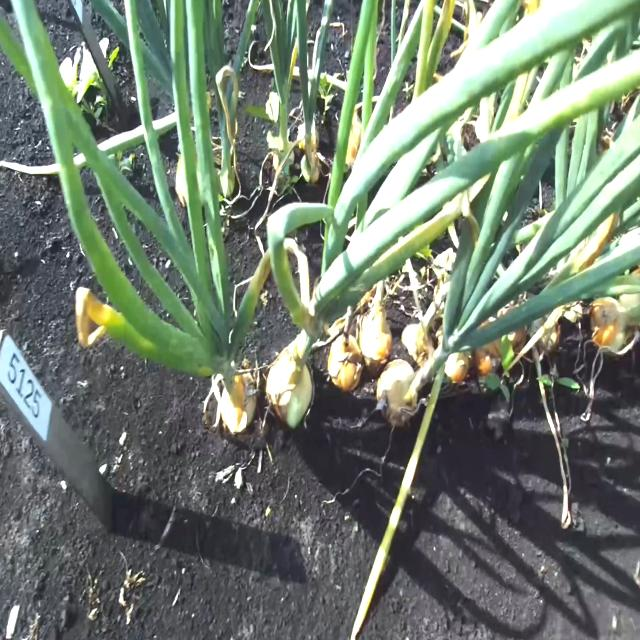onion: (265, 331, 315, 431), (216, 364, 256, 429), (377, 356, 415, 424), (587, 294, 628, 356), (326, 333, 361, 391), (360, 304, 392, 364), (404, 321, 434, 367), (444, 348, 468, 390)
